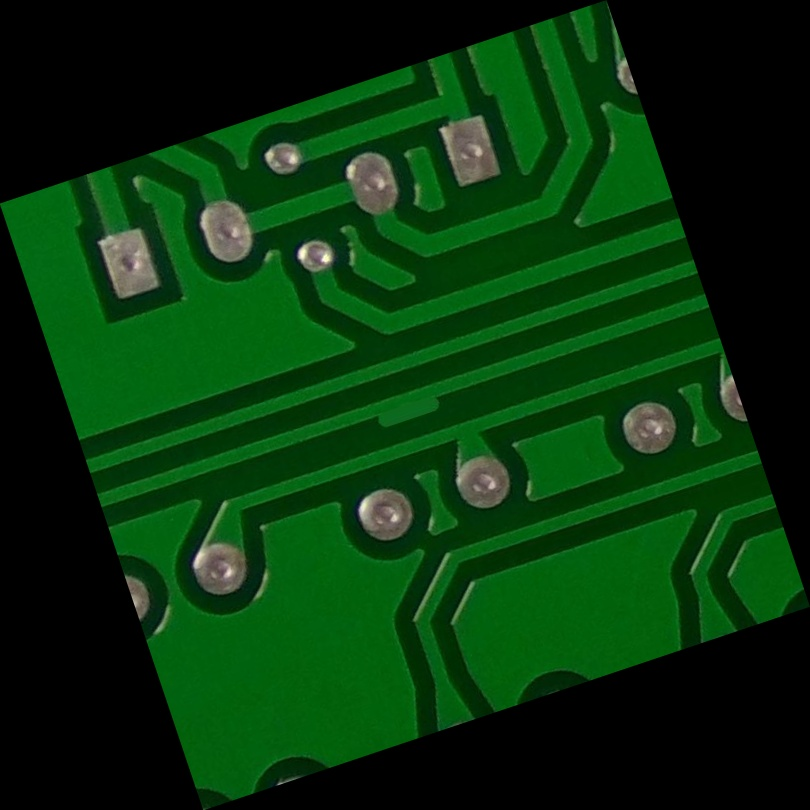spur: (349, 363, 461, 447)
